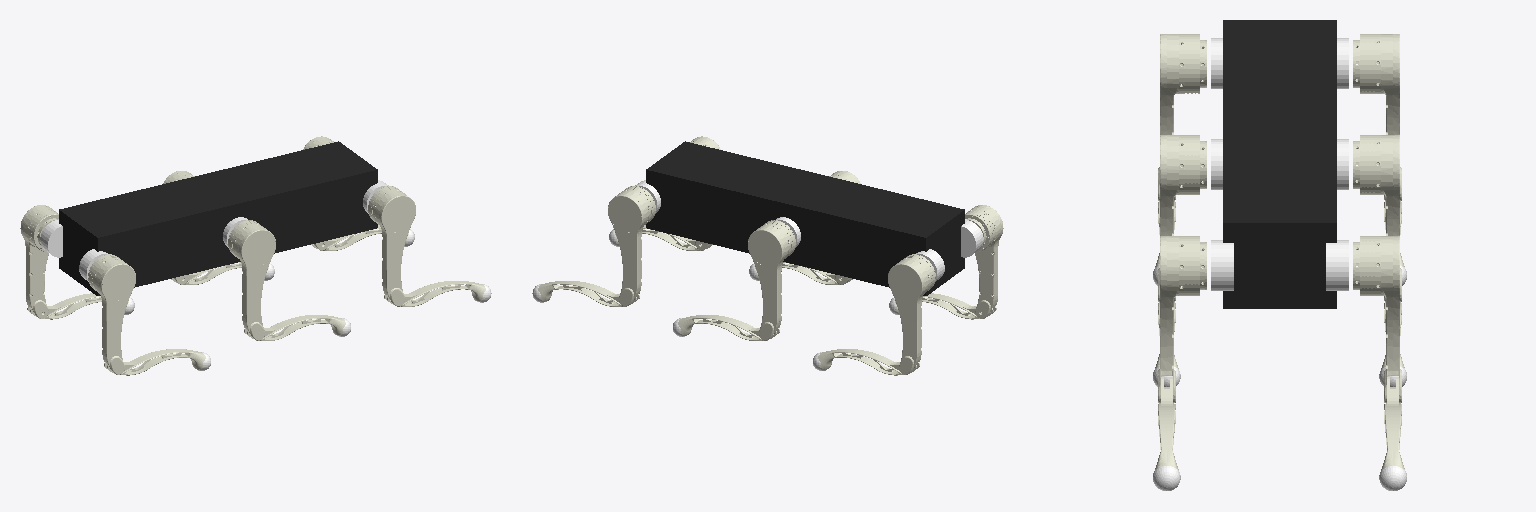
--- What the picture shows (computed from the rendered views, not written in the file) ---
The picture shows the robot from 3 angles, left to right: view 1: azimuth 30°, elevation 25°; view 2: azimuth 150°, elevation 25°; view 3: azimuth 270°, elevation 25°; orthographic projection.
Model go1_pointfoot_quadruped with 38 links and 37 joints (18 revolute, 19 fixed), rooted at trunk, posed all joints at 0 but 6 set to mid-range because 0 is outside their limits (FR_knee_joint = 1.4, FL_knee_joint = 1.4, MR_knee_joint = 1.4, ML_knee_joint = 1.4, RR_knee_joint = 1.4, RL_knee_joint = 1.4).
Visible links, largest first — view 1: trunk, FR_hip_Link, MR_hip_Link, RR_hip_Link, RL_hip_Link, RR_knee_Link, MR_knee_Link, FR_knee_Link, RL_knee_Link, RL_Abad_Link; view 2: trunk, FL_hip_Link, ML_hip_Link, RL_hip_Link, RR_hip_Link, RL_knee_Link, ML_knee_Link, FL_knee_Link, RR_knee_Link, RR_Abad_Link; view 3: trunk, FR_hip_Link, FL_hip_Link, MR_hip_Link, ML_hip_Link, RL_hip_Link, RR_hip_Link, FR_knee_Link, FL_knee_Link, FR_Abad_Link, FL_Abad_Link, MR_Abad_Link (+5 smaller).
Link boxes in pixels (<box>): trunk: <box>59,141,377,295</box>; FR_hip_Link: <box>368,186,415,306</box>; MR_hip_Link: <box>228,220,275,340</box>; RR_hip_Link: <box>88,254,135,374</box>; RL_hip_Link: <box>20,205,58,318</box>; RR_knee_Link: <box>104,349,205,375</box>; MR_knee_Link: <box>244,315,345,340</box>; FR_knee_Link: <box>384,281,485,306</box>; RL_knee_Link: <box>27,293,129,319</box>; RL_Abad_Link: <box>40,220,62,257</box>; trunk: <box>646,141,964,295</box>; FL_hip_Link: <box>608,186,655,306</box>; ML_hip_Link: <box>748,220,795,340</box>; RL_hip_Link: <box>888,254,935,374</box>; RR_hip_Link: <box>965,205,1003,318</box>; RL_knee_Link: <box>818,349,919,375</box>; ML_knee_Link: <box>678,315,779,340</box>; FL_knee_Link: <box>538,281,639,306</box>; RR_knee_Link: <box>894,293,996,319</box>; RR_Abad_Link: <box>961,220,983,257</box>; trunk: <box>1223,20,1336,308</box>; FR_hip_Link: <box>1158,236,1206,402</box>; FL_hip_Link: <box>1353,236,1401,402</box>; MR_hip_Link: <box>1158,135,1206,301</box>; ML_hip_Link: <box>1353,135,1401,301</box>; RL_hip_Link: <box>1353,34,1401,200</box>; RR_hip_Link: <box>1158,34,1206,200</box>; FR_knee_Link: <box>1155,377,1178,469</box>; FL_knee_Link: <box>1381,377,1404,469</box>; FR_Abad_Link: <box>1211,240,1233,290</box>; FL_Abad_Link: <box>1326,240,1348,290</box>; MR_Abad_Link: <box>1211,139,1222,189</box>.
Bounding box of the posed robot: 1.05 × 0.399 × 0.3564 m (x, y, z).
12 mesh visuals loaded from 4 distinct referenced files (4 binary STL).

The robot description file, URDF, robot "go1_pointfoot_quadruped":
<?xml version="1.0"?>
<robot name="go1_pointfoot_quadruped">

  <!-- ================= materials ================= -->
  <material name="white"><color rgba="1 1 1 1"/></material>
  <material name="silver"><color rgba="0.9137 0.9137 0.8471 1"/></material>
  <material name="grey"><color rgba="0.2 0.2 0.2 1"/></material>

  <!-- ================= trunk ================= -->
  <link name="trunk">
    <visual>
      <geometry><box size="0.75 0.18 0.15"/></geometry>
      <material name="grey"/>
    </visual>
    <collision>
      <geometry><box size="0.75 0.18 0.08"/></geometry>
    </collision>
    <inertial>
      <origin xyz="0.011611 0.004437 0.000108"/>
      <mass value="10.8"/>
      <!-- <inertia
        ixx="0.016130741919" ixy="0.000593180607" ixz="7.324662e-06"
        iyy="0.036507810812" iyz="2.0969537e-05" izz="0.044693872053"/> -->
      <inertia
        ixx="0.13164"
        ixy="0.00084"
        ixz="0.01692"
        iyy="0.62406"
        iyz="0.00303"
        izz="0.59778"/>
    </inertial>
  </link>

  <!-- ================= IMU ================= -->
  <joint name="imu_joint" type="fixed">
    <parent link="trunk"/>
    <child link="imu_link"/>
    <origin xyz="-0.01592 -0.06659 -0.00617"/>
  </joint>

  <link name="imu_link">
    <inertial>
      <mass value="0.001"/>
      <inertia ixx="1e-4" iyy="1e-4" izz="1e-4" ixy="0" ixz="0" iyz="0"/>
    </inertial>
  </link>

  <!-- ========================================================= -->
  <!-- ======================= FR LEG (use R_ params) =========== -->
  <!-- ========================================================= -->

  <joint name="FR_abad_joint" type="revolute">
    <parent link="trunk"/>
    <child link="FR_Abad_Link"/>
    <origin xyz="0.375 -0.09 0"/>
    <axis xyz="1 0 0"/>
    <limit effort="40" lower="-0.4" upper="0.4" velocity="30"/>
  </joint>

  <link name="FR_Abad_Link">
    <inertial>
      <origin xyz="0 -0.0033685 0"/>
      <mass value="0.84142"/>
      <inertia ixx="0.00044085" ixy="6.4555e-07" ixz="-2.9232e-07"
               iyy="0.00074812" iyz="9.7511e-08" izz="0.0004023"/>
    </inertial>
    <visual>
      <origin rpy="1.57 0 0"/>
      <geometry><cylinder length="0.035" radius="0.04"/></geometry>
      <material name="white"/>
    </visual>
    <collision>
      <origin rpy="1.57 0 0"/>
      <geometry><cylinder length="0.035" radius="0.04"/></geometry>
    </collision>
  </link>

  <joint name="FR_hip_joint" type="revolute">
    <parent link="FR_Abad_Link"/>
    <child link="FR_hip_Link"/>
    <origin xyz="0 -0.0875 0"/>
    <axis xyz="0 -1 0"/>
    <limit effort="40" lower="-1.3" upper="1.3" velocity="30"/>
  </joint>

  <link name="FR_hip_Link">
    <visual><geometry><mesh filename="../meshes/R_hip_Link.STL"/></geometry><material name="silver"/></visual>
    <collision>
      <origin xyz="0 0 -0.1"/>
      <geometry><cylinder length="0.15" radius="0.02"/></geometry>
    </collision>
    <inertial>
      <origin xyz="-0.0029051 0.021376 -0.028346"/>
      <mass value="1.0967"/>
      <inertia ixx="0.0021496" ixy="1.1839e-06" ixz="-4.8995e-05"
               iyy="0.0026093" iyz="1.3229e-05" izz="0.00052605"/>
    </inertial>
  </link>

  <joint name="FR_knee_joint" type="revolute">
    <parent link="FR_hip_Link"/>
    <child link="FR_knee_Link"/>
    <origin xyz="0 0 -0.22"/>
    <axis xyz="0 -1 0"/>
    <limit effort="40" lower="0.5" upper="2.3" velocity="30"/>
  </joint>

  <link name="FR_knee_Link">
    <visual><geometry><mesh filename="../meshes/R_knee_Link.STL"/></geometry><material name="silver"/></visual>
    <collision>
      <origin xyz="0.008 0 -0.06" rpy="0 -0.21 0"/>
      <geometry><cylinder length="0.12" radius="0.012"/></geometry>
    </collision>
    <inertial>
      <origin xyz="0.006435 0 -0.107388"/>
      <mass value="0.154"/>
      <inertia ixx="0.00108" ixy="3.4e-07" ixz="1.72e-05"
               iyy="0.0011" iyz="8.28e-06" izz="3.29e-05"/>
    </inertial>
  </link>

  <!-- knee sub-links (from original biped) -->
  <link name="FR_kneeflower">
    <collision>
      <origin xyz="0 0 0" rpy="0 0 0"/>
      <geometry><cylinder length="0.07" radius="0.011"/></geometry>
    </collision>
  </link>

  <joint name="FR_kneeflower_joint" type="fixed">
    <parent link="FR_knee_Link"/>
    <child link="FR_kneeflower"/>
    <origin xyz="0.020 0 -0.152" rpy="0 0.05 0"/>
    <axis xyz="0 0 0"/>
  </joint>

  <link name="FR_kneeflower1">
    <collision>
      <origin xyz="0 0 0" rpy="0 0 0"/>
      <geometry><cylinder length="0.038" radius="0.012"/></geometry>
    </collision>
  </link>

  <joint name="FR_kneeflower1_joint" type="fixed">
    <parent link="FR_kneeflower"/>
    <child link="FR_kneeflower1"/>
    <origin xyz="-0.006 0 -0.05" rpy="0 0.3 0"/>
    <axis xyz="0 0 0"/>
  </joint>

  <joint name="FR_foot_joint" type="fixed" dont_collapse="true">
    <parent link="FR_knee_Link"/>
    <child link="FR_foot"/>
    <origin xyz="0 0 -0.232"/>
  </joint>

  <link name="FR_foot">
    <visual><geometry><sphere radius="0.022"/></geometry><material name="white"/></visual>
    <collision><geometry><sphere radius="0.022"/></geometry></collision>
    <inertial>
      <origin xyz="-0.039445 0 -0.17051"/>
      <mass value="0.010414"/>
      <inertia ixx="2.0696e-05" iyy="1.6231e-06" izz="2.1532e-05"
               ixy="0" ixz="4.8649e-07" iyz="0"/>
    </inertial>
  </link>

  <!-- ========================================================= -->
  <!-- ======================= FL LEG (use L_ params) =========== -->
  <!-- ========================================================= -->

  <joint name="FL_abad_joint" type="revolute">
    <parent link="trunk"/>
    <child link="FL_Abad_Link"/>
    <origin xyz="0.375 0.09 0"/>
    <axis xyz="1 0 0"/>
    <limit effort="40" lower="-0.4" upper="0.4" velocity="30"/>
  </joint>

  <link name="FL_Abad_Link">
    <inertial>
      <origin xyz="0 0.0033685 0"/>
      <mass value="0.84142"/>
      <inertia ixx="0.00044078" ixy="-9.9392e-08" ixz="-3.6784e-07"
               iyy="0.00074812" iyz="-4.4651e-08" izz="0.00040238"/>
    </inertial>
    <visual>
      <origin rpy="1.57 0 0"/>
      <geometry><cylinder length="0.035" radius="0.04"/></geometry>
      <material name="white"/>
    </visual>
    <collision>
      <origin rpy="1.57 0 0"/>
      <geometry><cylinder length="0.035" radius="0.04"/></geometry>
    </collision>
  </link>

  <joint name="FL_hip_joint" type="revolute">
    <parent link="FL_Abad_Link"/>
    <child link="FL_hip_Link"/>
    <origin xyz="0 0.0875 0"/>
    <axis xyz="0 -1 0"/>
    <limit effort="40" lower="-1.3" upper="1.3" velocity="30"/>
  </joint>

  <link name="FL_hip_Link">
    <visual><geometry><mesh filename="../meshes/L_hip_Link.STL"/></geometry><material name="silver"/></visual>
    <collision>
      <origin xyz="0 0 -0.1"/>
      <geometry><cylinder length="0.15" radius="0.02"/></geometry>
    </collision>
    <inertial>
      <origin xyz="-0.0029051 -0.021376 -0.028346"/>
      <mass value="1.0967"/>
      <inertia ixx="0.0021496" ixy="1.1839e-06" ixz="-4.8995e-05"
               iyy="0.0026093" iyz="1.3229e-05" izz="0.00052605"/>
    </inertial>
  </link>

  <joint name="FL_knee_joint" type="revolute">
    <parent link="FL_hip_Link"/>
    <child link="FL_knee_Link"/>
    <origin xyz="0 0 -0.22"/>
    <axis xyz="0 -1 0"/>
    <limit effort="40" lower="0.5" upper="2.3" velocity="30"/>
  </joint>

  <link name="FL_knee_Link">
    <visual><geometry><mesh filename="../meshes/L_knee_Link.STL"/></geometry><material name="silver"/></visual>
    <collision>
      <origin xyz="0.008 0 -0.06" rpy="0 -0.21 0"/>
      <geometry><cylinder length="0.12" radius="0.012"/></geometry>
    </collision>
    <inertial>
      <origin xyz="0.006435 0 -0.107388"/>
      <mass value="0.154"/>
      <inertia ixx="0.00108" ixy="3.4e-07" ixz="1.72e-05"
               iyy="0.0011" iyz="8.28e-06" izz="3.29e-05"/>
    </inertial>
  </link>

  <link name="FL_kneeflower">
    <collision>
      <origin xyz="0 0 0" rpy="0 0 0"/>
      <geometry><cylinder length="0.07" radius="0.011"/></geometry>
    </collision>
  </link>

  <joint name="FL_kneeflower_joint" type="fixed">
    <parent link="FL_knee_Link"/>
    <child link="FL_kneeflower"/>
    <origin xyz="0.020 0 -0.152" rpy="0 0.05 0"/>
    <axis xyz="0 0 0"/>
  </joint>

  <link name="FL_kneeflower1">
    <collision>
      <origin xyz="0 0 0" rpy="0 0 0"/>
      <geometry><cylinder length="0.038" radius="0.012"/></geometry>
    </collision>
  </link>

  <joint name="FL_kneeflower1_joint" type="fixed">
    <parent link="FL_kneeflower"/>
    <child link="FL_kneeflower1"/>
    <origin xyz="-0.006 0 -0.05" rpy="0 0.3 0"/>
    <axis xyz="0 0 0"/>
  </joint>

  <joint name="FL_foot_joint" type="fixed" dont_collapse="true">
    <parent link="FL_knee_Link"/>
    <child link="FL_foot"/>
    <origin xyz="0 0 -0.232"/>
  </joint>

  <link name="FL_foot">
    <visual><geometry><sphere radius="0.022"/></geometry><material name="white"/></visual>
    <collision><geometry><sphere radius="0.022"/></geometry></collision>
    <inertial>
      <origin xyz="-0.039445 0 -0.17051"/>
      <mass value="0.010414"/>
      <inertia ixx="2.0696e-05" iyy="1.6231e-06" izz="2.1532e-05"
               ixy="0" ixz="4.8649e-07" iyz="0"/>
    </inertial>
  </link>

  <!-- ========================================================= -->
  <!-- ======================= MR LEG (use R_ params) =========== -->
  <!-- ========================================================= -->

  <joint name="MR_abad_joint" type="revolute">
    <parent link="trunk"/>
    <child link="MR_Abad_Link"/>
    <origin xyz="0 -0.09 0"/>
    <axis xyz="1 0 0"/>
    <limit effort="40" lower="-0.4" upper="0.4" velocity="30"/>
  </joint>

  <link name="MR_Abad_Link">
    <inertial>
      <origin xyz="0 -0.0033685 0"/>
      <mass value="0.84142"/>
      <inertia ixx="0.00044085" ixy="6.4555e-07" ixz="-2.9232e-07"
               iyy="0.00074812" iyz="9.7511e-08" izz="0.0004023"/>
    </inertial>
    <visual>
      <origin rpy="1.57 0 0"/>
      <geometry><cylinder length="0.035" radius="0.04"/></geometry>
      <material name="white"/>
    </visual>
    <collision>
      <origin rpy="1.57 0 0"/>
      <geometry><cylinder length="0.035" radius="0.04"/></geometry>
    </collision>
  </link>

  <joint name="MR_hip_joint" type="revolute">
    <parent link="MR_Abad_Link"/>
    <child link="MR_hip_Link"/>
    <origin xyz="0 -0.0875 0"/>
    <axis xyz="0 -1 0"/>
    <limit effort="40" lower="-1.3" upper="1.3" velocity="30"/>
  </joint>

  <link name="MR_hip_Link">
    <visual><geometry><mesh filename="../meshes/R_hip_Link.STL"/></geometry><material name="silver"/></visual>
    <collision>
      <origin xyz="0 0 -0.1"/>
      <geometry><cylinder length="0.15" radius="0.02"/></geometry>
    </collision>
    <inertial>
      <origin xyz="-0.0029051 0.021376 -0.028346"/>
      <mass value="1.0967"/>
      <inertia ixx="0.0021496" ixy="1.1839e-06" ixz="-4.8995e-05"
               iyy="0.0026093" iyz="1.3229e-05" izz="0.00052605"/>
    </inertial>
  </link>

  <joint name="MR_knee_joint" type="revolute">
    <parent link="MR_hip_Link"/>
    <child link="MR_knee_Link"/>
    <origin xyz="0 0 -0.22"/>
    <axis xyz="0 -1 0"/>
    <limit effort="40" lower="0.5" upper="2.3" velocity="30"/>
  </joint>

  <link name="MR_knee_Link">
    <visual><geometry><mesh filename="../meshes/R_knee_Link.STL"/></geometry><material name="silver"/></visual>
    <collision>
      <origin xyz="0.008 0 -0.06" rpy="0 -0.21 0"/>
      <geometry><cylinder length="0.12" radius="0.012"/></geometry>
    </collision>
    <inertial>
      <origin xyz="0.006435 0 -0.107388"/>
      <mass value="0.154"/>
      <inertia ixx="0.00108" ixy="3.4e-07" ixz="1.72e-05"
               iyy="0.0011" iyz="8.28e-06" izz="3.29e-05"/>
    </inertial>
  </link>

  <link name="MR_kneeflower">
    <collision>
      <origin xyz="0 0 0" rpy="0 0 0"/>
      <geometry><cylinder length="0.07" radius="0.011"/></geometry>
    </collision>
  </link>

  <joint name="MR_kneeflower_joint" type="fixed">
    <parent link="MR_knee_Link"/>
    <child link="MR_kneeflower"/>
    <origin xyz="0.020 0 -0.152" rpy="0 0.05 0"/>
    <axis xyz="0 0 0"/>
  </joint>

  <link name="MR_kneeflower1">
    <collision>
      <origin xyz="0 0 0" rpy="0 0 0"/>
      <geometry><cylinder length="0.038" radius="0.012"/></geometry>
    </collision>
  </link>

  <joint name="MR_kneeflower1_joint" type="fixed">
    <parent link="MR_kneeflower"/>
    <child link="MR_kneeflower1"/>
    <origin xyz="-0.006 0 -0.05" rpy="0 0.3 0"/>
    <axis xyz="0 0 0"/>
  </joint>

  <joint name="MR_foot_joint" type="fixed" dont_collapse="true">
    <parent link="MR_knee_Link"/>
    <child link="MR_foot"/>
    <origin xyz="0 0 -0.232"/>
  </joint>

  <link name="MR_foot">
    <visual><geometry><sphere radius="0.022"/></geometry><material name="white"/></visual>
    <collision><geometry><sphere radius="0.022"/></geometry></collision>
    <inertial>
      <origin xyz="-0.039445 0 -0.17051"/>
      <mass value="0.010414"/>
      <inertia ixx="2.0696e-05" iyy="1.6231e-06" izz="2.1532e-05"
               ixy="0" ixz="4.8649e-07" iyz="0"/>
    </inertial>
  </link>

  <!-- ========================================================= -->
  <!-- ======================= ML LEG (use L_ params) =========== -->
  <!-- ========================================================= -->

  <joint name="ML_abad_joint" type="revolute">
    <parent link="trunk"/>
    <child link="ML_Abad_Link"/>
    <origin xyz="0 0.09 0"/>
    <axis xyz="1 0 0"/>
    <limit effort="40" lower="-0.4" upper="0.4" velocity="30"/>
  </joint>

  <link name="ML_Abad_Link">
    <inertial>
      <origin xyz="0 0.0033685 0"/>
      <mass value="0.84142"/>
      <inertia ixx="0.00044078" ixy="-9.9392e-08" ixz="-3.6784e-07"
               iyy="0.00074812" iyz="-4.4651e-08" izz="0.00040238"/>
    </inertial>
    <visual>
      <origin rpy="1.57 0 0"/>
      <geometry><cylinder length="0.035" radius="0.04"/></geometry>
      <material name="white"/>
    </visual>
    <collision>
      <origin rpy="1.57 0 0"/>
      <geometry><cylinder length="0.035" radius="0.04"/></geometry>
    </collision>
  </link>

  <joint name="ML_hip_joint" type="revolute">
    <parent link="ML_Abad_Link"/>
    <child link="ML_hip_Link"/>
    <origin xyz="0 0.0875 0"/>
    <axis xyz="0 -1 0"/>
    <limit effort="40" lower="-1.3" upper="1.3" velocity="30"/>
  </joint>

  <link name="ML_hip_Link">
    <visual><geometry><mesh filename="../meshes/L_hip_Link.STL"/></geometry><material name="silver"/></visual>
    <collision>
      <origin xyz="0 0 -0.1"/>
      <geometry><cylinder length="0.15" radius="0.02"/></geometry>
    </collision>
    <inertial>
      <origin xyz="-0.0029051 -0.021376 -0.028346"/>
      <mass value="1.0967"/>
      <inertia ixx="0.0021496" ixy="1.1839e-06" ixz="-4.8995e-05"
               iyy="0.0026093" iyz="1.3229e-05" izz="0.00052605"/>
    </inertial>
  </link>

  <joint name="ML_knee_joint" type="revolute">
    <parent link="ML_hip_Link"/>
    <child link="ML_knee_Link"/>
    <origin xyz="0 0 -0.22"/>
    <axis xyz="0 -1 0"/>
    <limit effort="40" lower="0.5" upper="2.3" velocity="30"/>
  </joint>

  <link name="ML_knee_Link">
    <visual><geometry><mesh filename="../meshes/L_knee_Link.STL"/></geometry><material name="silver"/></visual>
    <collision>
      <origin xyz="0.008 0 -0.06" rpy="0 -0.21 0"/>
      <geometry><cylinder length="0.12" radius="0.012"/></geometry>
    </collision>
    <inertial>
      <origin xyz="0.006435 0 -0.107388"/>
      <mass value="0.154"/>
      <inertia ixx="0.00108" ixy="3.4e-07" ixz="1.72e-05"
               iyy="0.0011" iyz="8.28e-06" izz="3.29e-05"/>
    </inertial>
  </link>

  <link name="ML_kneeflower">
    <collision>
      <origin xyz="0 0 0" rpy="0 0 0"/>
      <geometry><cylinder length="0.07" radius="0.011"/></geometry>
    </collision>
  </link>

  <joint name="ML_kneeflower_joint" type="fixed">
    <parent link="ML_knee_Link"/>
    <child link="ML_kneeflower"/>
    <origin xyz="0.020 0 -0.152" rpy="0 0.05 0"/>
    <axis xyz="0 0 0"/>
  </joint>

  <link name="ML_kneeflower1">
    <collision>
      <origin xyz="0 0 0" rpy="0 0 0"/>
      <geometry><cylinder length="0.038" radius="0.012"/></geometry>
    </collision>
  </link>

  <joint name="ML_kneeflower1_joint" type="fixed">
    <parent link="ML_kneeflower"/>
    <child link="ML_kneeflower1"/>
    <origin xyz="-0.006 0 -0.05" rpy="0 0.3 0"/>
    <axis xyz="0 0 0"/>
  </joint>

  <joint name="ML_foot_joint" type="fixed" dont_collapse="true">
    <parent link="ML_knee_Link"/>
    <child link="ML_foot"/>
    <origin xyz="0 0 -0.232"/>
  </joint>

  <link name="ML_foot">
    <visual><geometry><sphere radius="0.022"/></geometry><material name="white"/></visual>
    <collision><geometry><sphere radius="0.022"/></geometry></collision>
    <inertial>
      <origin xyz="-0.039445 0 -0.17051"/>
      <mass value="0.010414"/>
      <inertia ixx="2.0696e-05" iyy="1.6231e-06" izz="2.1532e-05"
               ixy="0" ixz="4.8649e-07" iyz="0"/>
    </inertial>
  </link>

  <!-- ========================================================= -->
  <!-- ======================= RR LEG (use R_ params) =========== -->
  <!-- ========================================================= -->

  <joint name="RR_abad_joint" type="revolute">
    <parent link="trunk"/>
    <child link="RR_Abad_Link"/>
    <origin xyz="-0.375 -0.09 0"/>
    <axis xyz="1 0 0"/>
    <limit effort="40" lower="-0.4" upper="0.4" velocity="30"/>
  </joint>

  <link name="RR_Abad_Link">
    <inertial>
      <origin xyz="0 -0.0033685 0"/>
      <mass value="0.84142"/>
      <inertia ixx="0.00044085" ixy="6.4555e-07" ixz="-2.9232e-07"
               iyy="0.00074812" iyz="9.7511e-08" izz="0.0004023"/>
    </inertial>
    <visual>
      <origin rpy="1.57 0 0"/>
      <geometry><cylinder length="0.035" radius="0.04"/></geometry>
      <material name="white"/>
    </visual>
    <collision>
      <origin rpy="1.57 0 0"/>
      <geometry><cylinder length="0.035" radius="0.04"/></geometry>
    </collision>
  </link>

  <joint name="RR_hip_joint" type="revolute">
    <parent link="RR_Abad_Link"/>
    <child link="RR_hip_Link"/>
    <origin xyz="0 -0.0875 0"/>
    <axis xyz="0 -1 0"/>
    <limit effort="40" lower="-1.3" upper="1.3" velocity="30"/>
  </joint>

  <link name="RR_hip_Link">
    <visual><geometry><mesh filename="../meshes/R_hip_Link.STL"/></geometry><material name="silver"/></visual>
    <collision>
      <origin xyz="0 0 -0.1"/>
      <geometry><cylinder length="0.15" radius="0.02"/></geometry>
    </collision>
    <inertial>
      <origin xyz="-0.0029051 0.021376 -0.028346"/>
      <mass value="1.0967"/>
      <inertia ixx="0.0021496" ixy="1.1839e-06" ixz="-4.8995e-05"
               iyy="0.0026093" iyz="1.3229e-05" izz="0.00052605"/>
    </inertial>
  </link>

  <joint name="RR_knee_joint" type="revolute">
    <parent link="RR_hip_Link"/>
    <child link="RR_knee_Link"/>
    <origin xyz="0 0 -0.22"/>
    <axis xyz="0 -1 0"/>
    <limit effort="40" lower="0.5" upper="2.3" velocity="30"/>
  </joint>

  <link name="RR_knee_Link">
    <visual><geometry><mesh filename="../meshes/R_knee_Link.STL"/></geometry><material name="silver"/></visual>
    <collision>
      <origin xyz="0.008 0 -0.06" rpy="0 -0.21 0"/>
      <geometry><cylinder length="0.12" radius="0.012"/></geometry>
    </collision>
    <inertial>
      <origin xyz="0.006435 0 -0.107388"/>
      <mass value="0.154"/>
      <inertia ixx="0.00108" ixy="3.4e-07" ixz="1.72e-05"
               iyy="0.0011" iyz="8.28e-06" izz="3.29e-05"/>
    </inertial>
  </link>

  <!-- knee sub-links (from original biped) -->
  <link name="RR_kneeflower">
    <collision>
      <origin xyz="0 0 0" rpy="0 0 0"/>
      <geometry><cylinder length="0.07" radius="0.011"/></geometry>
    </collision>
  </link>

  <joint name="RR_kneeflower_joint" type="fixed">
    <parent link="RR_knee_Link"/>
    <child link="RR_kneeflower"/>
    <origin xyz="0.020 0 -0.152" rpy="0 0.05 0"/>
    <axis xyz="0 0 0"/>
  </joint>

  <link name="RR_kneeflower1">
    <collision>
      <origin xyz="0 0 0" rpy="0 0 0"/>
      <geometry><cylinder length="0.038" radius="0.012"/></geometry>
    </collision>
  </link>

  <joint name="RR_kneeflower1_joint" type="fixed">
    <parent link="RR_kneeflower"/>
    <child link="RR_kneeflower1"/>
    <origin xyz="-0.006 0 -0.05" rpy="0 0.3 0"/>
    <axis xyz="0 0 0"/>
  </joint>

  <joint name="RR_foot_joint" type="fixed" dont_collapse="true">
    <parent link="RR_knee_Link"/>
    <child link="RR_foot"/>
    <origin xyz="0 0 -0.232"/>
  </joint>

  <link name="RR_foot">
    <visual><geometry><sphere radius="0.022"/></geometry><material name="white"/></visual>
    <collision><geometry><sphere radius="0.022"/></geometry></collision>
    <inertial>
      <origin xyz="-0.039445 0 -0.17051"/>
      <mass value="0.010414"/>
      <inertia ixx="2.0696e-05" iyy="1.6231e-06" izz="2.1532e-05"
               ixy="0" ixz="4.8649e-07" iyz="0"/>
    </inertial>
  </link>

  <!-- ========================================================= -->
  <!-- ======================= RL LEG (use L_ params) =========== -->
  <!-- ========================================================= -->

  <joint name="RL_abad_joint" type="revolute">
    <parent link="trunk"/>
    <child link="RL_Abad_Link"/>
    <origin xyz="-0.375 0.09 0"/>
    <axis xyz="1 0 0"/>
    <limit effort="40" lower="-0.4" upper="0.4" velocity="30"/>
  </joint>

  <link name="RL_Abad_Link">
    <inertial>
      <origin xyz="0 0.0033685 0"/>
      <mass value="0.84142"/>
      <inertia ixx="0.00044078" ixy="-9.9392e-08" ixz="-3.6784e-07"
               iyy="0.00074812" iyz="-4.4651e-08" izz="0.00040238"/>
    </inertial>
    <visual>
      <origin rpy="1.57 0 0"/>
      <geometry><cylinder length="0.035" radius="0.04"/></geometry>
      <material name="white"/>
    </visual>
    <collision>
      <origin rpy="1.57 0 0"/>
      <geometry><cylinder length="0.035" radius="0.04"/></geometry>
    </collision>
  </link>

  <joint name="RL_hip_joint" type="revolute">
    <parent link="RL_Abad_Link"/>
    <child link="RL_hip_Link"/>
    <origin xyz="0 0.0875 0"/>
    <axis xyz="0 -1 0"/>
    <limit effort="40" lower="-1.3" upper="1.3" velocity="30"/>
  </joint>

  <link name="RL_hip_Link">
    <visual><geometry><mesh filename="../meshes/L_hip_Link.STL"/></geometry><material name="silver"/></visual>
    <collision>
      <origin xyz="0 0 -0.1"/>
      <geometry><cylinder length="0.15" radius="0.02"/></geometry>
    </collision>
    <inertial>
      <origin xyz="-0.0029051 -0.021376 -0.028346"/>
      <mass value="1.0967"/>
      <inertia ixx="0.0021496" ixy="1.1839e-06" ixz="-4.8995e-05"
               iyy="0.0026093" iyz="1.3229e-05" izz="0.00052605"/>
    </inertial>
  </link>

  <joint name="RL_knee_joint" type="revolute">
    <parent link="RL_hip_Link"/>
    <child link="RL_knee_Link"/>
    <origin xyz="0 0 -0.22"/>
    <axis xyz="0 -1 0"/>
    <limit effort="40" lower="0.5" upper="2.3" velocity="30"/>
  </joint>

  <link name="RL_knee_Link">
    <visual><geometry><mesh filename="../meshes/L_knee_Link.STL"/></geometry><material name="silver"/></visual>
    <collision>
      <origin xyz="0.008 0 -0.06" rpy="0 -0.21 0"/>
      <geometry><cylinder length="0.12" radius="0.012"/></geometry>
    </collision>
    <inertial>
      <origin xyz="0.006435 0 -0.107388"/>
      <mass value="0.154"/>
      <inertia ixx="0.00108" ixy="3.4e-07" ixz="1.72e-05"
               iyy="0.0011" iyz="8.28e-06" izz="3.29e-05"/>
    </inertial>
  </link>

  <link name="RL_kneeflower">
    <collision>
      <origin xyz="0 0 0" rpy="0 0 0"/>
      <geometry><cylinder length="0.07" radius="0.011"/></geometry>
    </collision>
  </link>

  <joint name="RL_kneeflower_joint" type="fixed">
    <parent link="RL_knee_Link"/>
    <child link="RL_kneeflower"/>
    <origin xyz="0.020 0 -0.152" rpy="0 0.05 0"/>
    <axis xyz="0 0 0"/>
  </joint>

  <link name="RL_kneeflower1">
    <collision>
      <origin xyz="0 0 0" rpy="0 0 0"/>
      <geometry><cylinder length="0.038" radius="0.012"/></geometry>
    </collision>
  </link>

  <joint name="RL_kneeflower1_joint" type="fixed">
    <parent link="RL_kneeflower"/>
    <child link="RL_kneeflower1"/>
    <origin xyz="-0.006 0 -0.05" rpy="0 0.3 0"/>
    <axis xyz="0 0 0"/>
  </joint>

  <joint name="RL_foot_joint" type="fixed" dont_collapse="true">
    <parent link="RL_knee_Link"/>
    <child link="RL_foot"/>
    <origin xyz="0 0 -0.232"/>
  </joint>

  <link name="RL_foot">
    <visual><geometry><sphere radius="0.022"/></geometry><material name="white"/></visual>
    <collision><geometry><sphere radius="0.022"/></geometry></collision>
    <inertial>
      <origin xyz="-0.039445 0 -0.17051"/>
      <mass value="0.010414"/>
      <inertia ixx="2.0696e-05" iyy="1.6231e-06" izz="2.1532e-05"
               ixy="0" ixz="4.8649e-07" iyz="0"/>
    </inertial>
  </link>
</robot>
